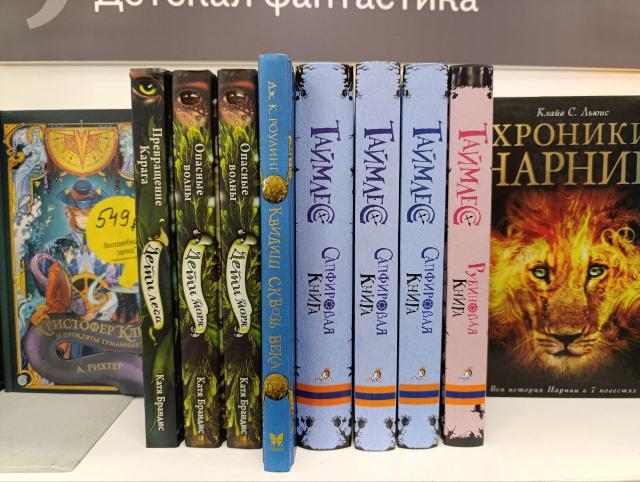book-s-spine: (295, 65, 354, 451), (397, 63, 449, 450), (443, 63, 494, 447), (129, 66, 179, 449), (172, 68, 222, 449), (355, 60, 401, 452), (217, 68, 263, 450), (258, 53, 290, 473)
